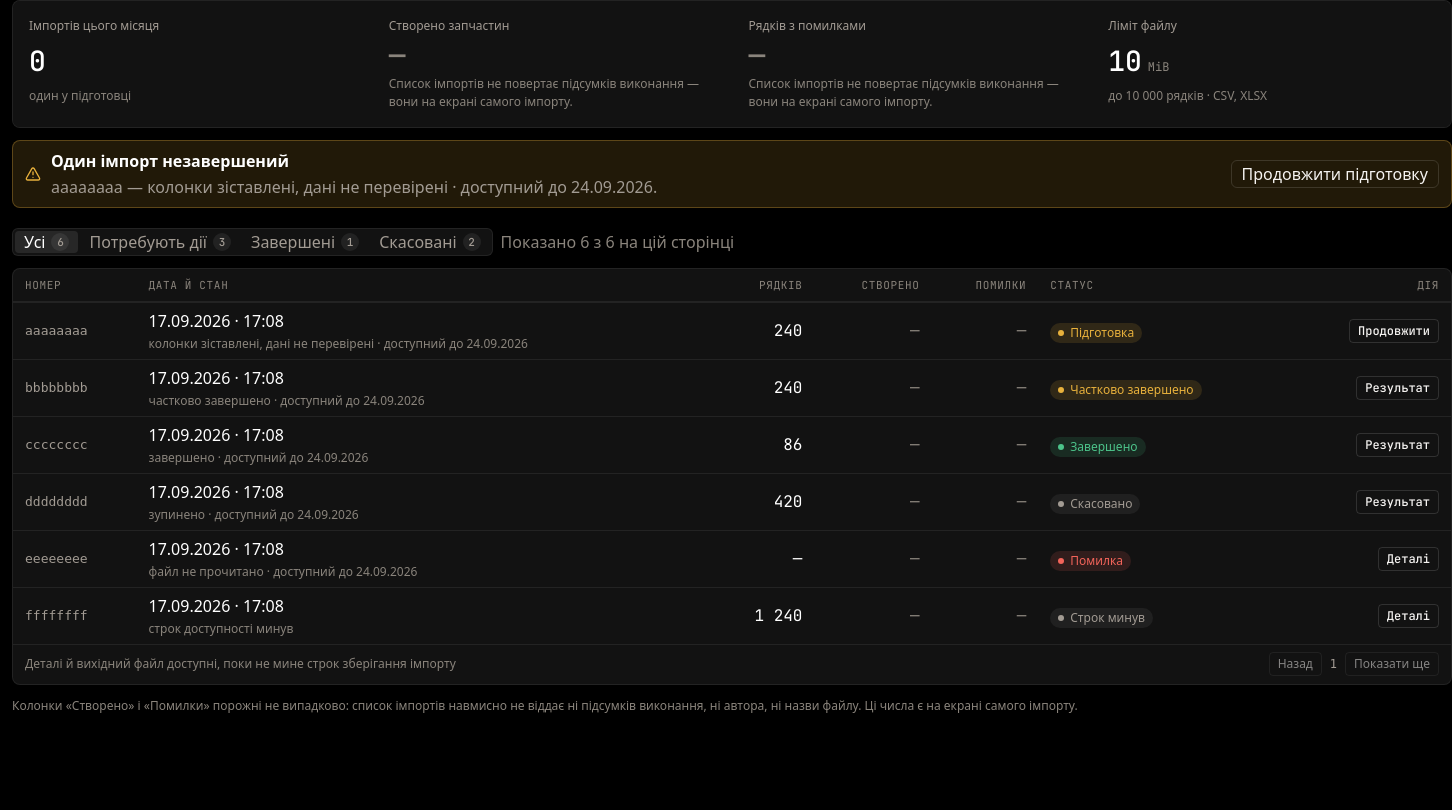
groups the list and counts each group
Click the button "Потребують дії 3": (160, 242) [80,231,240,253]
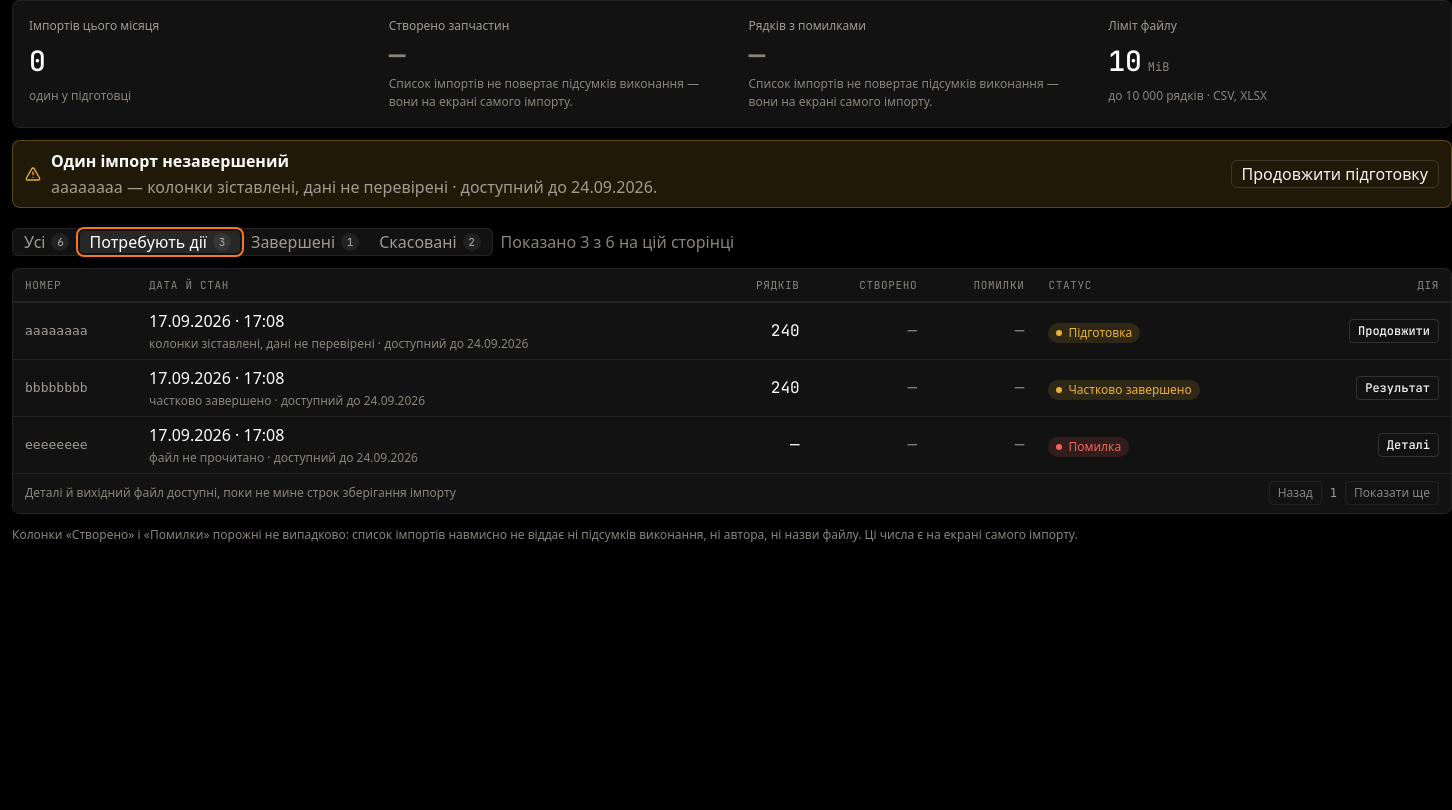
Result: the number of rows is 4 at [13,269,1451,301]; [13,302,1451,359]; [13,359,1451,416]; [13,416,1451,472]
Result: the text "Показано 3 з 6 на цій сторінці" is shown at [501,230,734,254]
Click the button "Скасовані 2": (430, 242) [370,231,490,253]
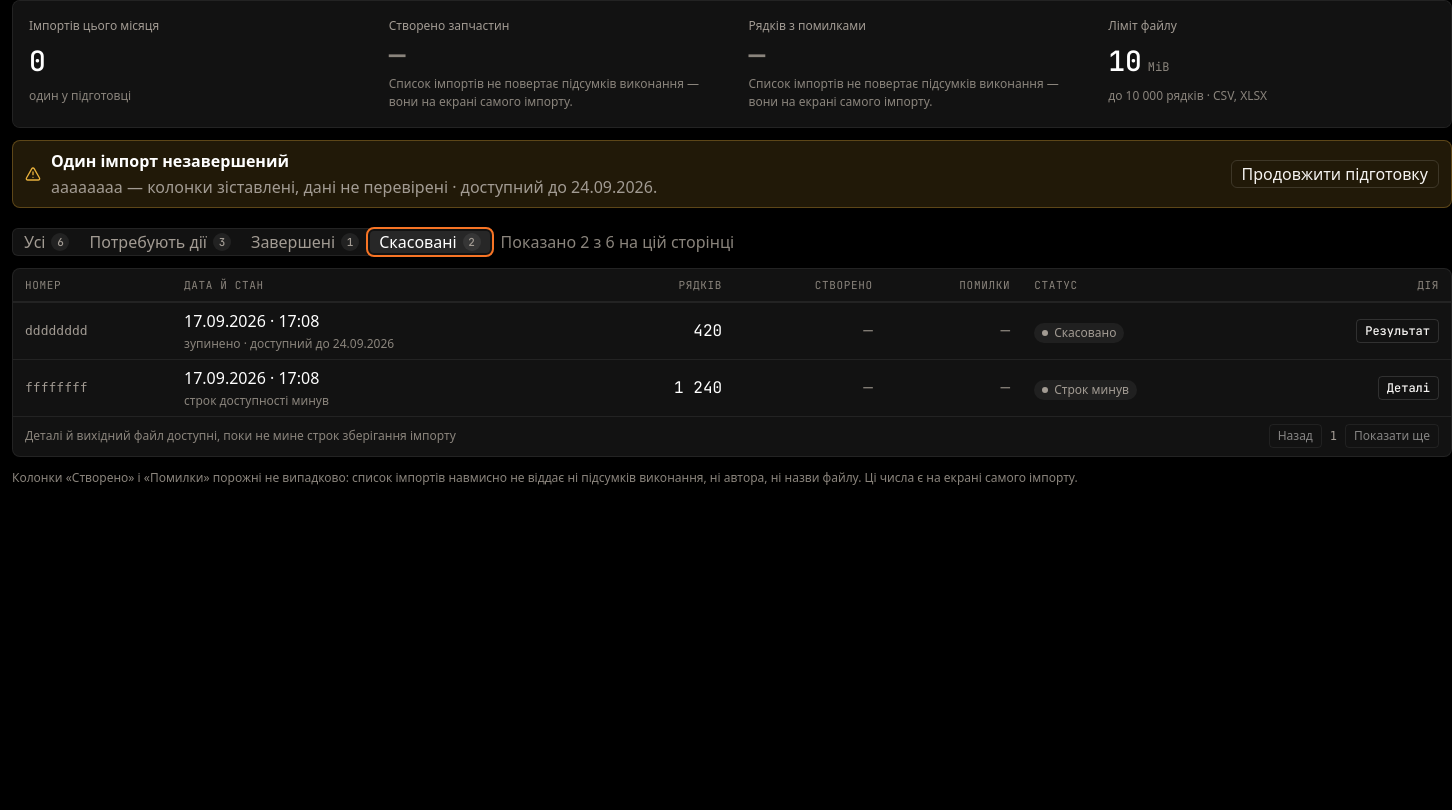
Result: the number of rows is 3 at [13,269,1451,301]; [13,302,1451,359]; [13,359,1451,416]
